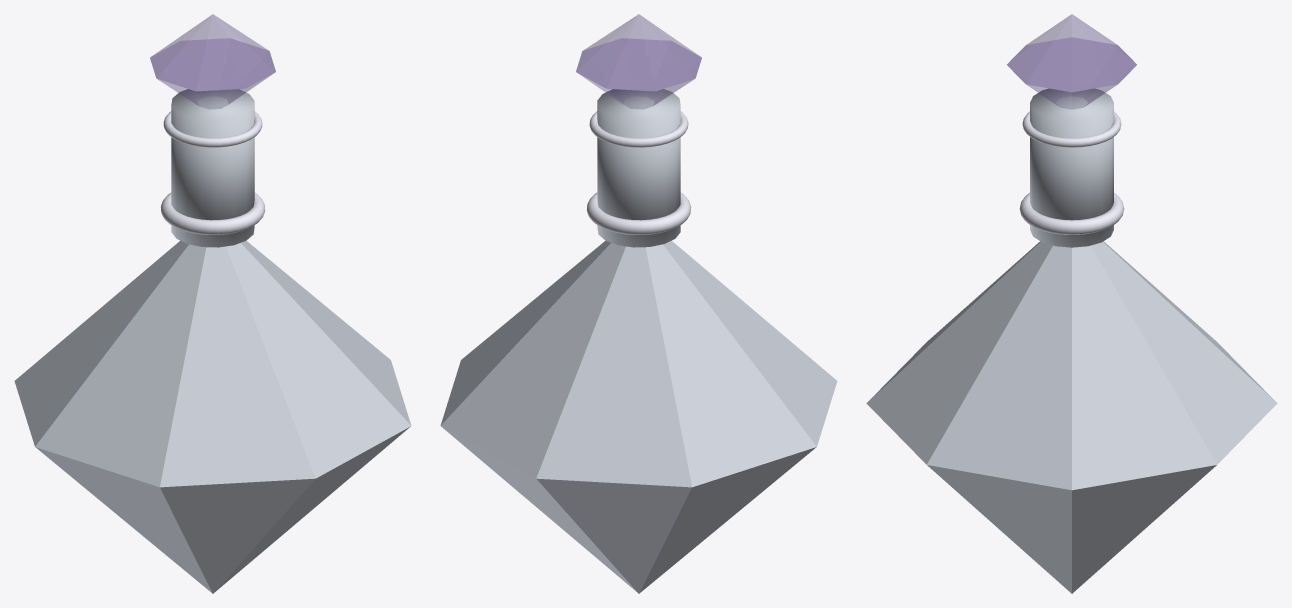
Rendered from alchemyai.glb.
3 views of the same model, side by side, from view 1: azimuth 30°, elevation 25°; view 2: azimuth 150°, elevation 25°; view 3: azimuth 270°, elevation 25° (orthographic).
Visible parts, largest first — view 1: AlchemyFlask, Stopper; view 2: AlchemyFlask, Stopper; view 3: AlchemyFlask, Stopper.
Part boxes in pixels (box(x1,y1,x2,y2)): AlchemyFlask: box(14, 89, 411, 593); Stopper: box(150, 14, 275, 109); AlchemyFlask: box(440, 89, 837, 593); Stopper: box(576, 14, 701, 109); AlchemyFlask: box(866, 88, 1277, 593); Stopper: box(1007, 14, 1136, 109).
Bounding box in the file's own units: 4.4 × 6.85 × 4.4.
